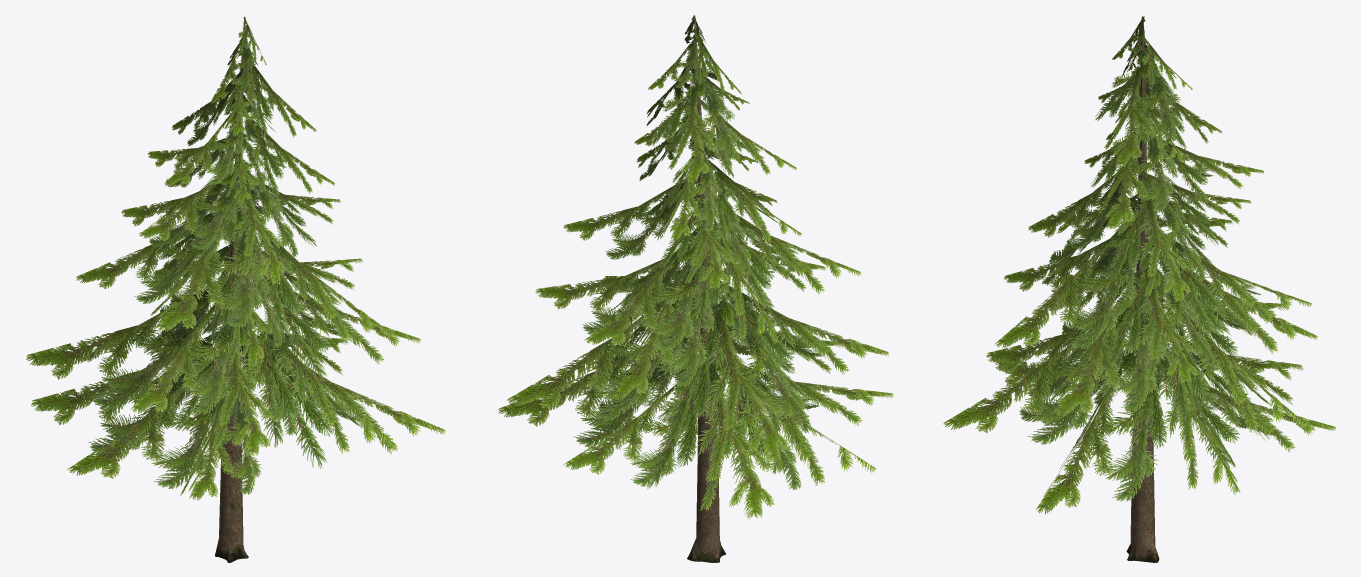
File: tree_fir.gltf
3 renders of one model, left to right at view 1: azimuth 30°, elevation 25°; view 2: azimuth 150°, elevation 25°; view 3: azimuth 270°, elevation 25°, orthographic. The views are drawn at different scales.
Visible parts, largest first — view 1: Плоскость.032; view 2: Плоскость.032; view 3: Плоскость.032.
Part boxes in pixels (x1,y1,x2,y2): Плоскость.032: [26, 16, 445, 562]; Плоскость.032: [498, 15, 893, 562]; Плоскость.032: [943, 16, 1335, 562].
Size of the model in its own units: 6.07 by 9 by 6.17.
Materials: 2 (2 with a texture image).
